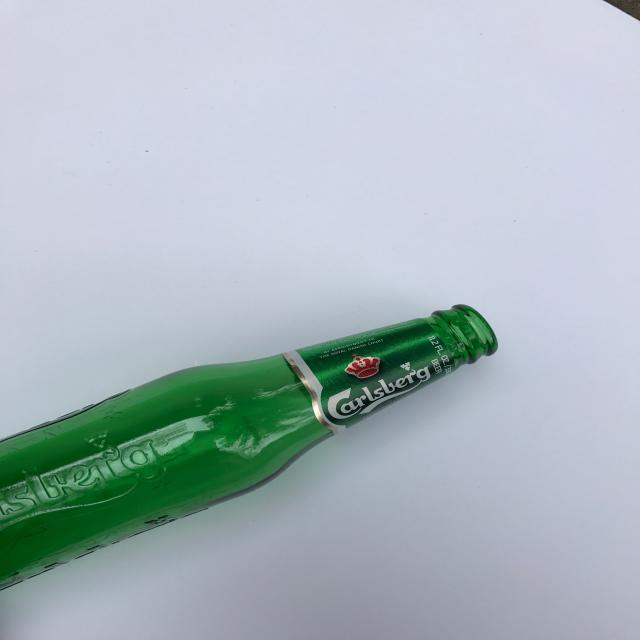Glass: (0, 292, 505, 603)
